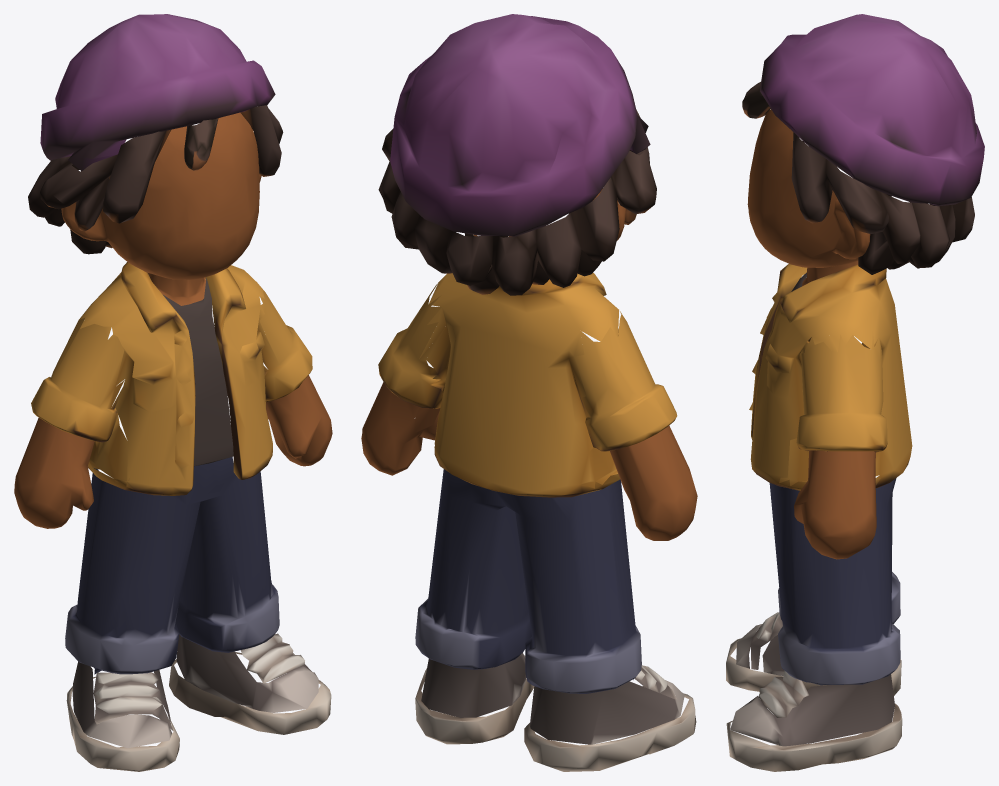
3 views of the same model, side by side, from view 1: azimuth 30°, elevation 25°; view 2: azimuth 150°, elevation 25°; view 3: azimuth 270°, elevation 25° (orthographic). The views are drawn at different scales.
Visible parts, largest first — view 1: bottom, top, acc_head_0, head, shoe_l, hair, shoe_r, sleeve_r, hand_r, hand_l, sleeve_l, acc_head_1; view 2: acc_head_0, bottom, top, hair, shoe_r, sleeve_r, shoe_l, hand_r, hand_l, sleeve_l; view 3: acc_head_0, top, bottom, shoe_l, hair, sleeve_l, head, hand_l, shoe_r, acc_head_1.
Boxes of the visible parts, x1=… form: bottom: x1=65, y1=457, x2=279, y2=674; top: x1=79, y1=262, x2=272, y2=495; acc_head_0: x1=40, y1=14, x2=275, y2=171; head: x1=61, y1=112, x2=261, y2=305; shoe_l: x1=169, y1=633, x2=331, y2=734; hair: x1=28, y1=105, x2=283, y2=254; shoe_r: x1=66, y1=661, x2=179, y2=771; sleeve_r: x1=31, y1=318, x2=134, y2=489; hand_r: x1=14, y1=418, x2=94, y2=528; hand_l: x1=266, y1=375, x2=332, y2=466; sleeve_l: x1=257, y1=291, x2=312, y2=448; acc_head_1: x1=184, y1=118, x2=218, y2=170; acc_head_0: x1=390, y1=14, x2=650, y2=236; bottom: x1=415, y1=469, x2=641, y2=693; top: x1=419, y1=273, x2=619, y2=497; hair: x1=378, y1=109, x2=656, y2=295; shoe_r: x1=524, y1=665, x2=696, y2=771; sleeve_r: x1=574, y1=311, x2=677, y2=488; shoe_l: x1=415, y1=653, x2=534, y2=744; hand_r: x1=610, y1=425, x2=697, y2=540; hand_l: x1=361, y1=382, x2=440, y2=475; sleeve_l: x1=378, y1=282, x2=445, y2=408; acc_head_0: x1=760, y1=14, x2=984, y2=206; top: x1=749, y1=264, x2=912, y2=490; bottom: x1=769, y1=478, x2=900, y2=685; shoe_l: x1=726, y1=670, x2=902, y2=771; hair: x1=791, y1=132, x2=974, y2=274; sleeve_l: x1=779, y1=331, x2=887, y2=485; head: x1=747, y1=109, x2=870, y2=286; hand_l: x1=794, y1=450, x2=876, y2=559; shoe_r: x1=726, y1=612, x2=901, y2=695; acc_head_1: x1=742, y1=82, x2=770, y2=118.
Size of the model in its own units: 0.4826 by 1.03 by 0.3487.
